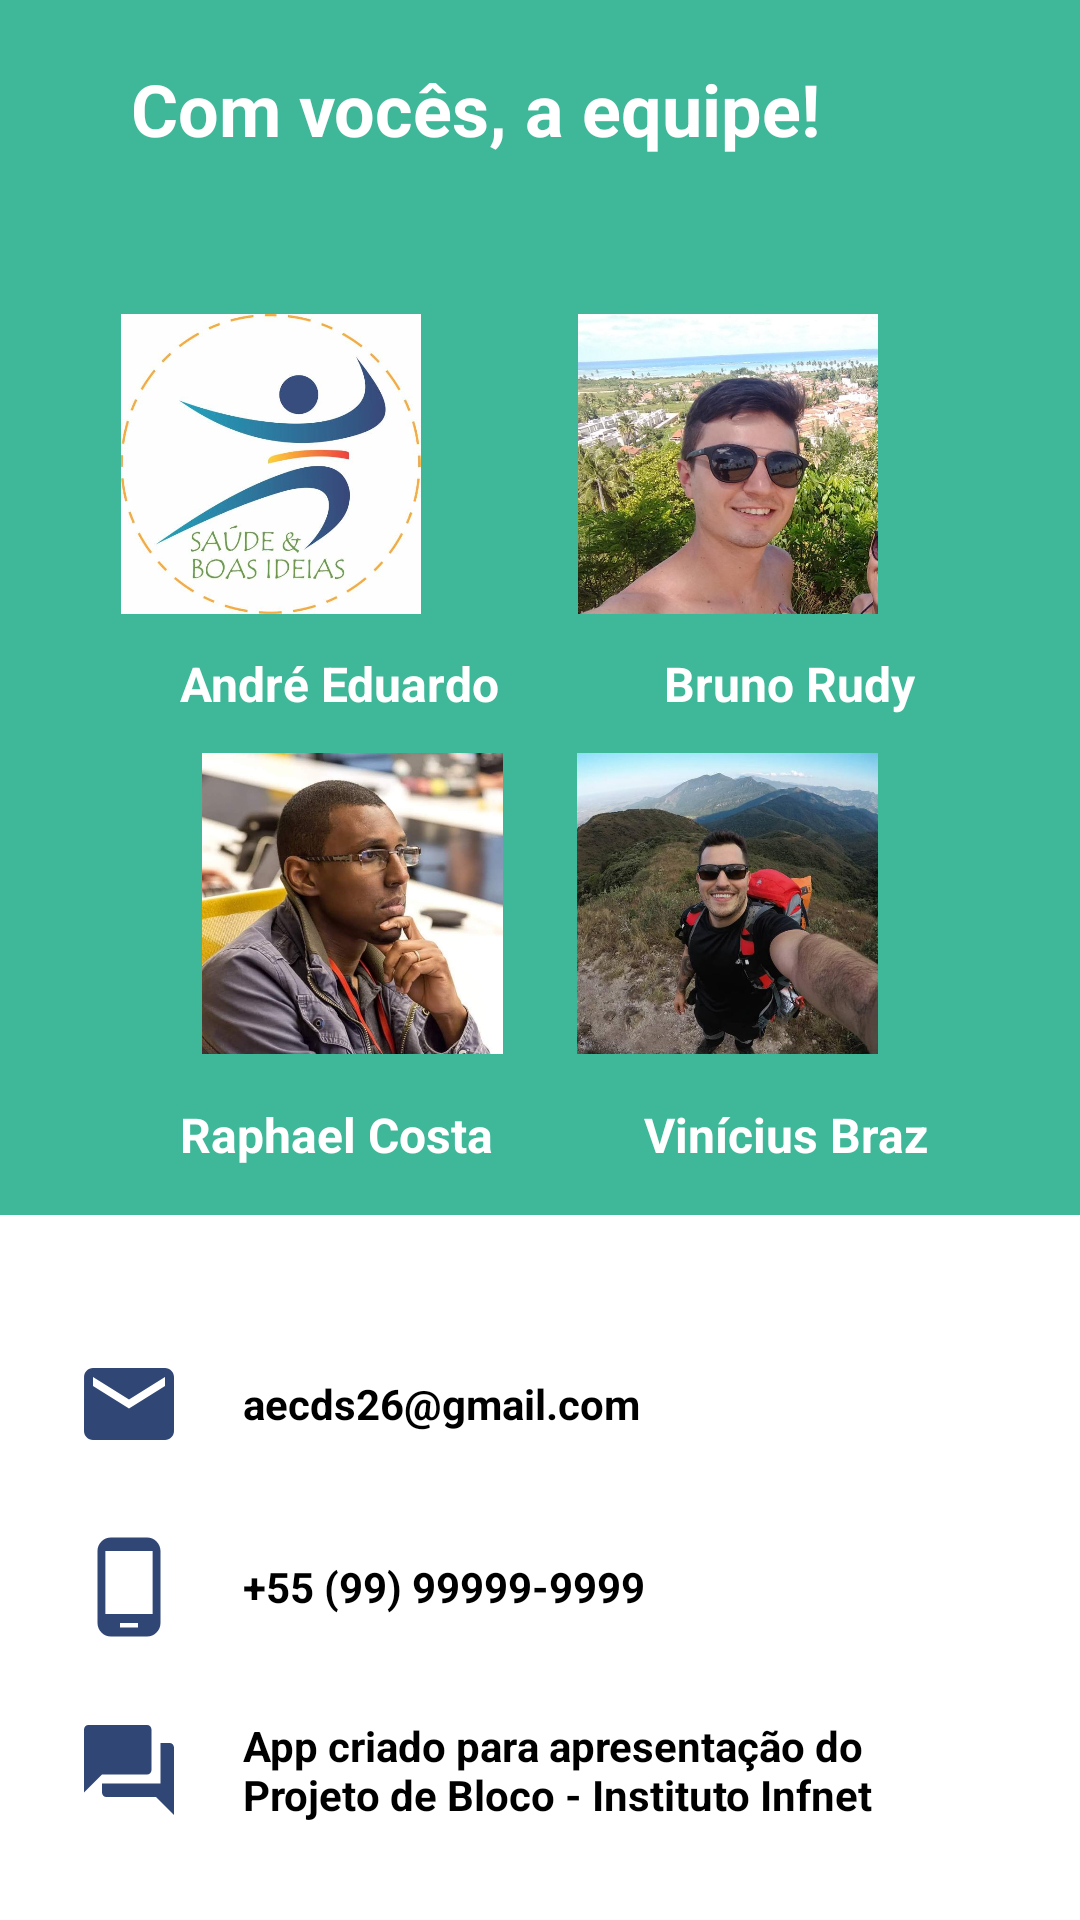

Icons on this 1080 x 1920 Android screen, each with its box as (x1, y1, x2, y2):
email: (84, 1368, 174, 1440)
forum: (84, 1725, 174, 1815)
phone android: (97, 1537, 161, 1637)
